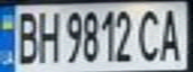1: (100, 7, 118, 63)
2: (115, 6, 136, 63)
8: (81, 7, 100, 63)
9: (60, 7, 84, 64)
A: (154, 5, 187, 62)
B: (9, 7, 42, 64)
C: (136, 6, 163, 62)
H: (33, 7, 60, 64)
